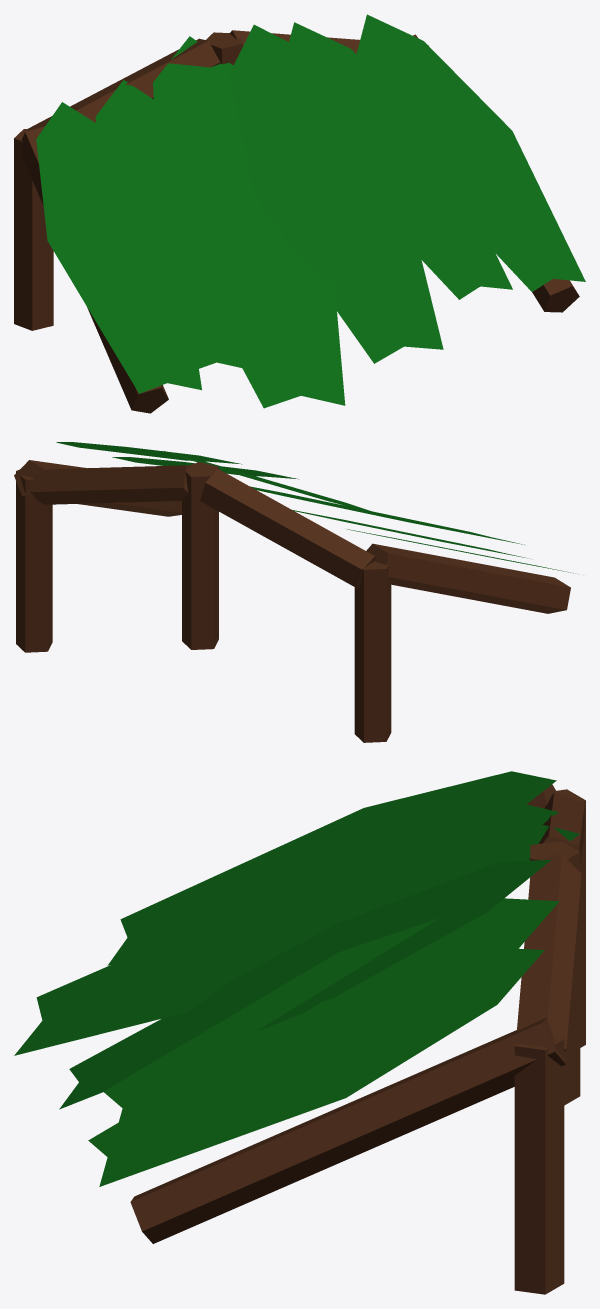
File: Shelter.fbx
The picture shows the model from 3 angles, top to bottom: view 1: azimuth 30°, elevation 25°; view 2: azimuth 150°, elevation 25°; view 3: azimuth 270°, elevation 25°; orthographic projection. The views are drawn at different scales.
Visible parts, largest first — view 1: Shelter; view 2: Shelter; view 3: Shelter.
Part boxes in pixels (x1,y1,x2,y2): Shelter: (14,14,585,413); Shelter: (14,442,578,742); Shelter: (14,771,585,1294).
Bounding box in the file's own units: 342 × 175 × 280.
